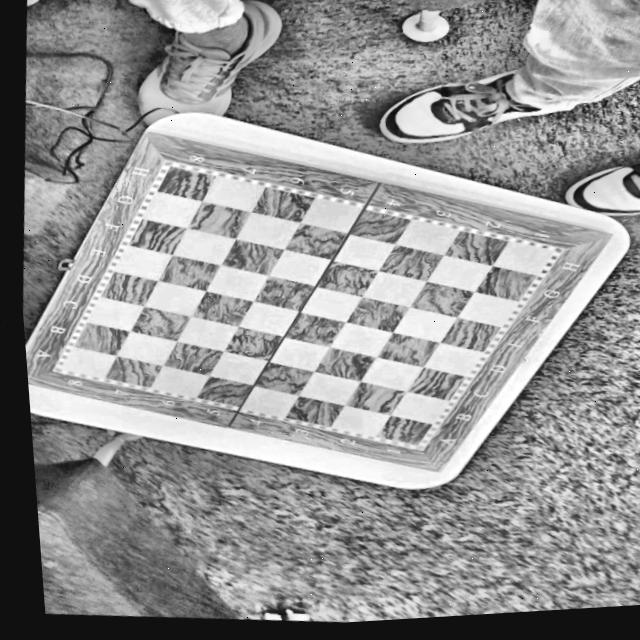chessboard: (9, 82, 634, 514)
